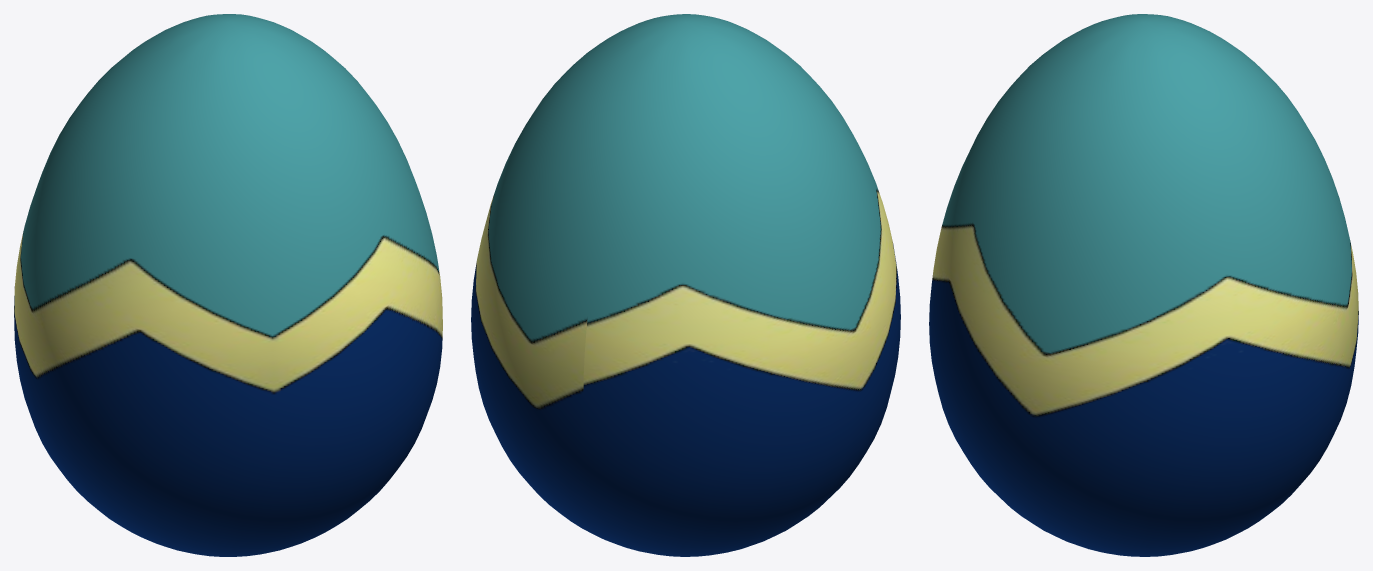
The model's file is huevo1.obj.
3 views of the same model, side by side, from view 1: azimuth 30°, elevation 25°; view 2: azimuth 150°, elevation 25°; view 3: azimuth 270°, elevation 25° (orthographic).
Parts seen in each view (by area): view 1: digiegg1:Mesh; view 2: digiegg1:Mesh; view 3: digiegg1:Mesh.
Part boxes in pixels (left/top/right/bottom): digiegg1:Mesh: left=14, top=14, right=442, bottom=556; digiegg1:Mesh: left=471, top=14, right=900, bottom=556; digiegg1:Mesh: left=929, top=14, right=1358, bottom=556.
Bounding box in the file's own units: 3.05 × 4.05 × 3.05.
2 materials, 1 textured.
